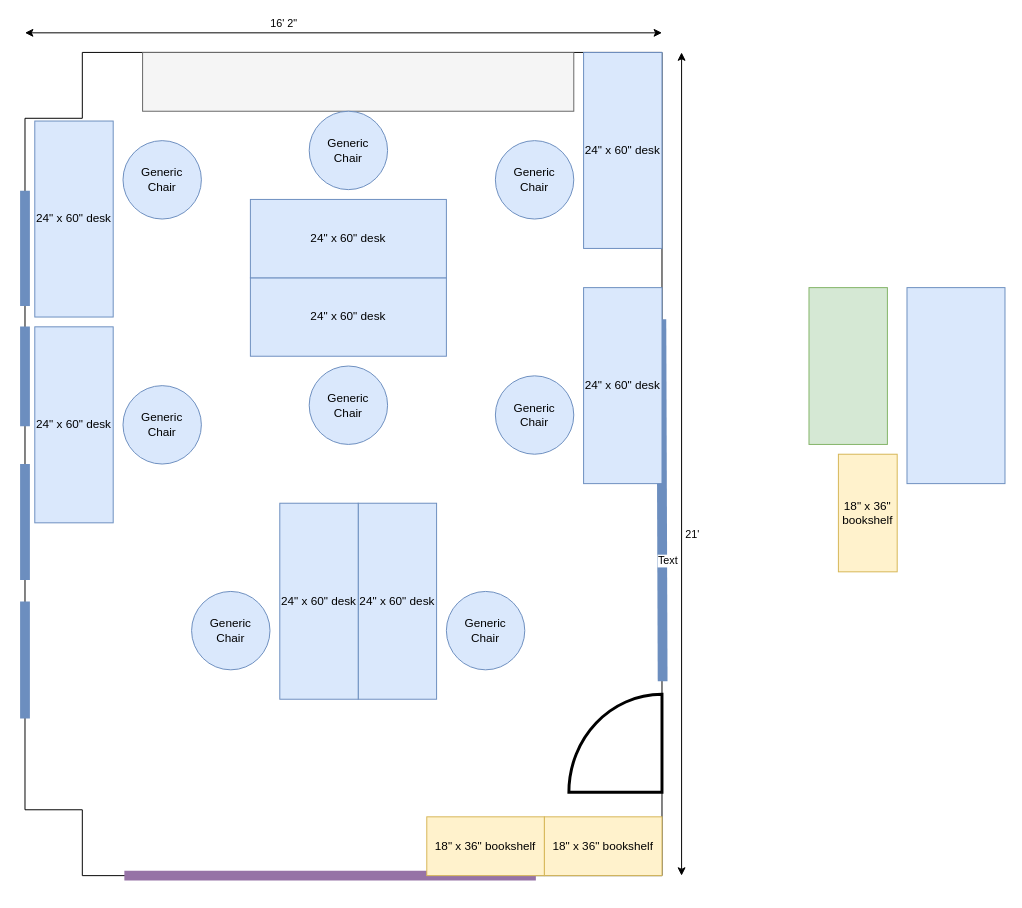
This 1022x908 diagram has some shape labels left out. The centre of each missing label's shape, as x and y in pixels:
24" x 48" desk: [847,365]
30" x 60" desk: [955,385]
Wall shelf: [358,81]
